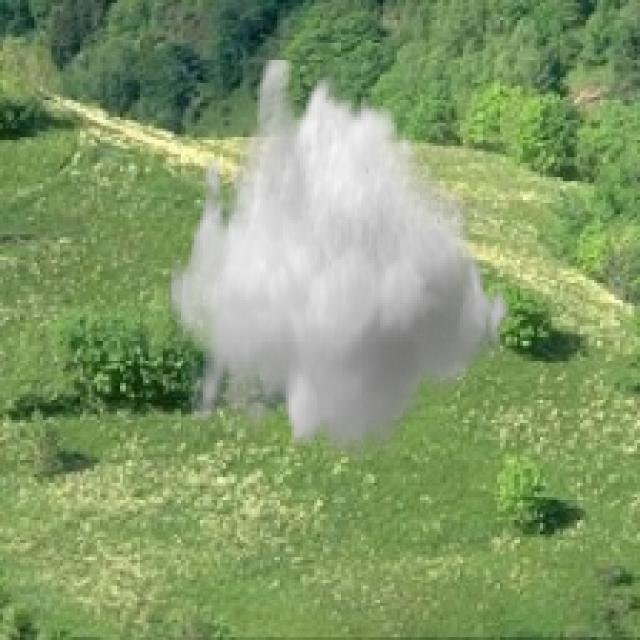Smoke: (168, 57, 518, 463)
